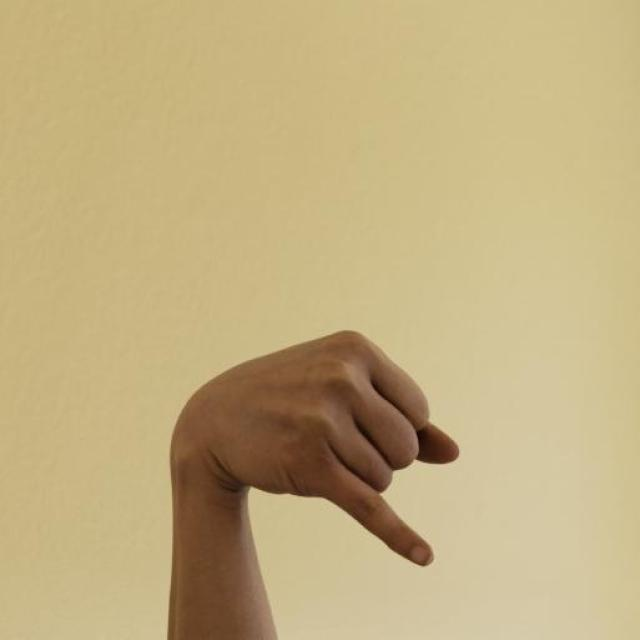J: (167, 325, 466, 570)
